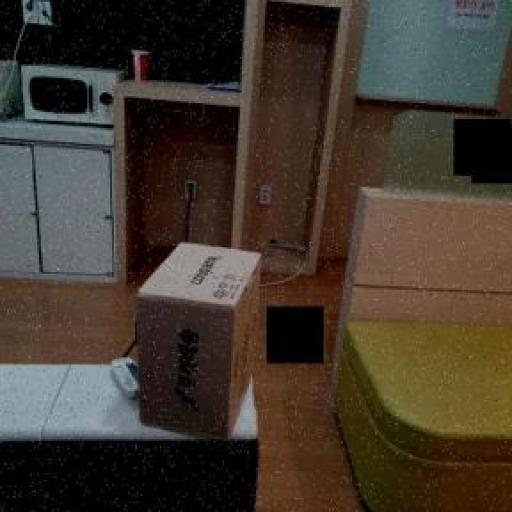box: (130, 232, 284, 458)
